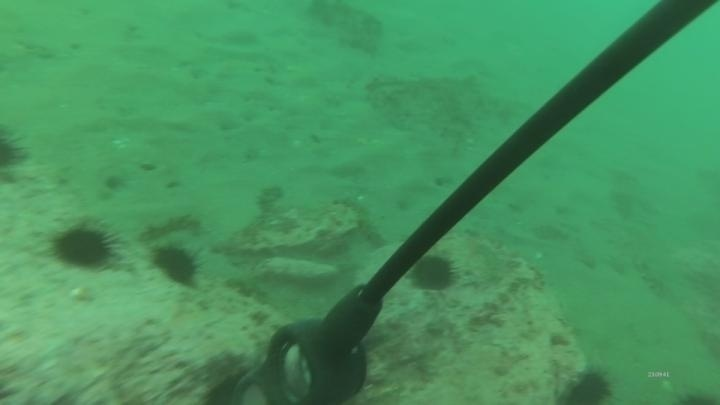echinus: (48, 219, 120, 273), (151, 242, 203, 289), (409, 252, 458, 294), (562, 366, 615, 404), (0, 123, 31, 175)
holothurian: (333, 193, 390, 250), (139, 209, 203, 243), (634, 255, 670, 302)
